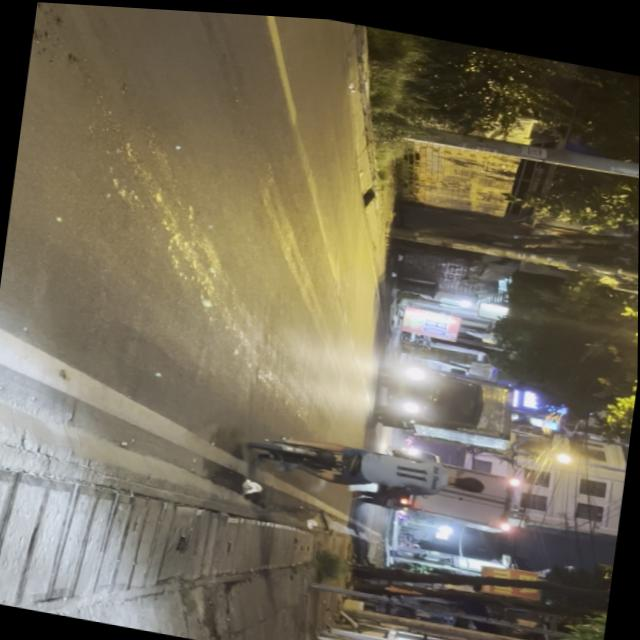licenseplate: (239, 412, 493, 512)
motorcyclist: (449, 463, 489, 489)
